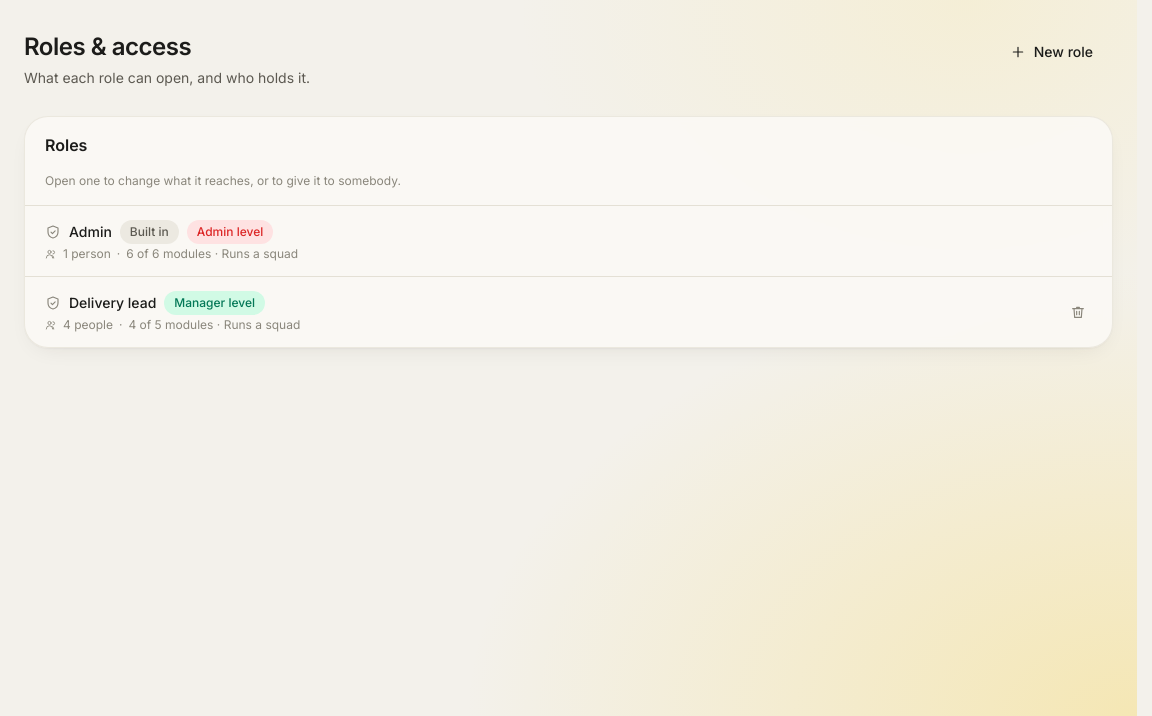
it: the list of roles › opens one to the modules it holds
Click the button "Delivery lead" at (113, 303), box [45,291,1052,333]
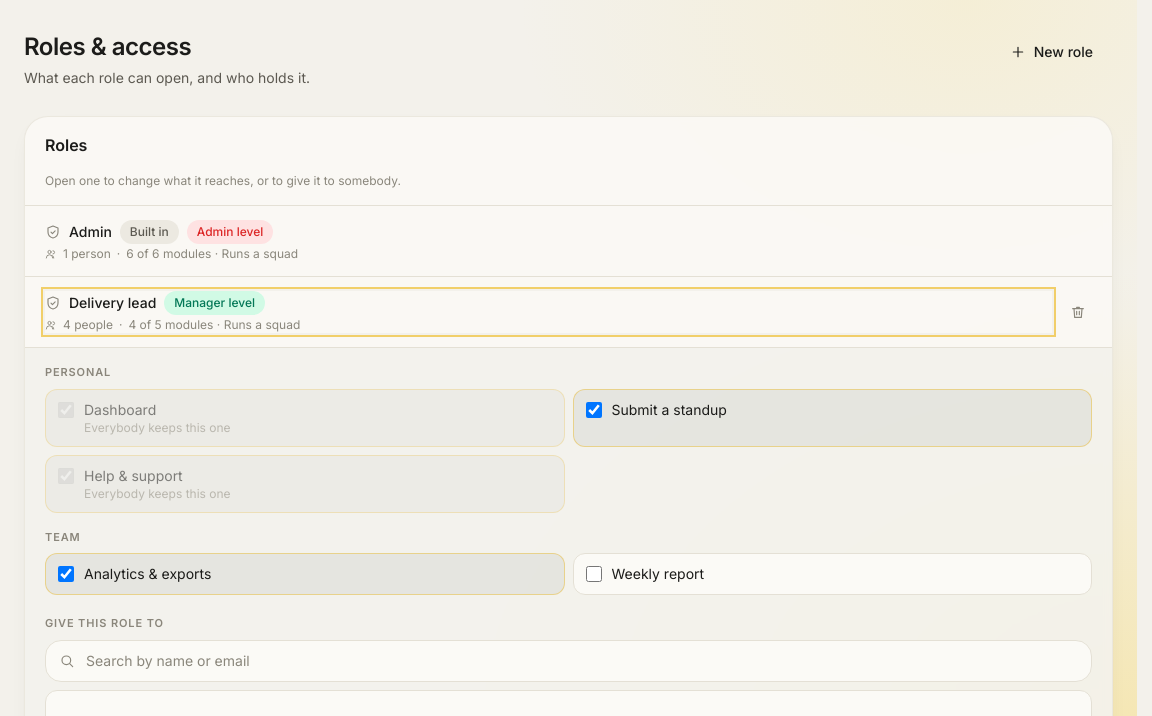
Check: the checkbox labelled "Analytics & exports" is checked, box [58,566,74,582]
Check: the checkbox labelled "Weekly report" is not checked, box [586,566,602,582]
